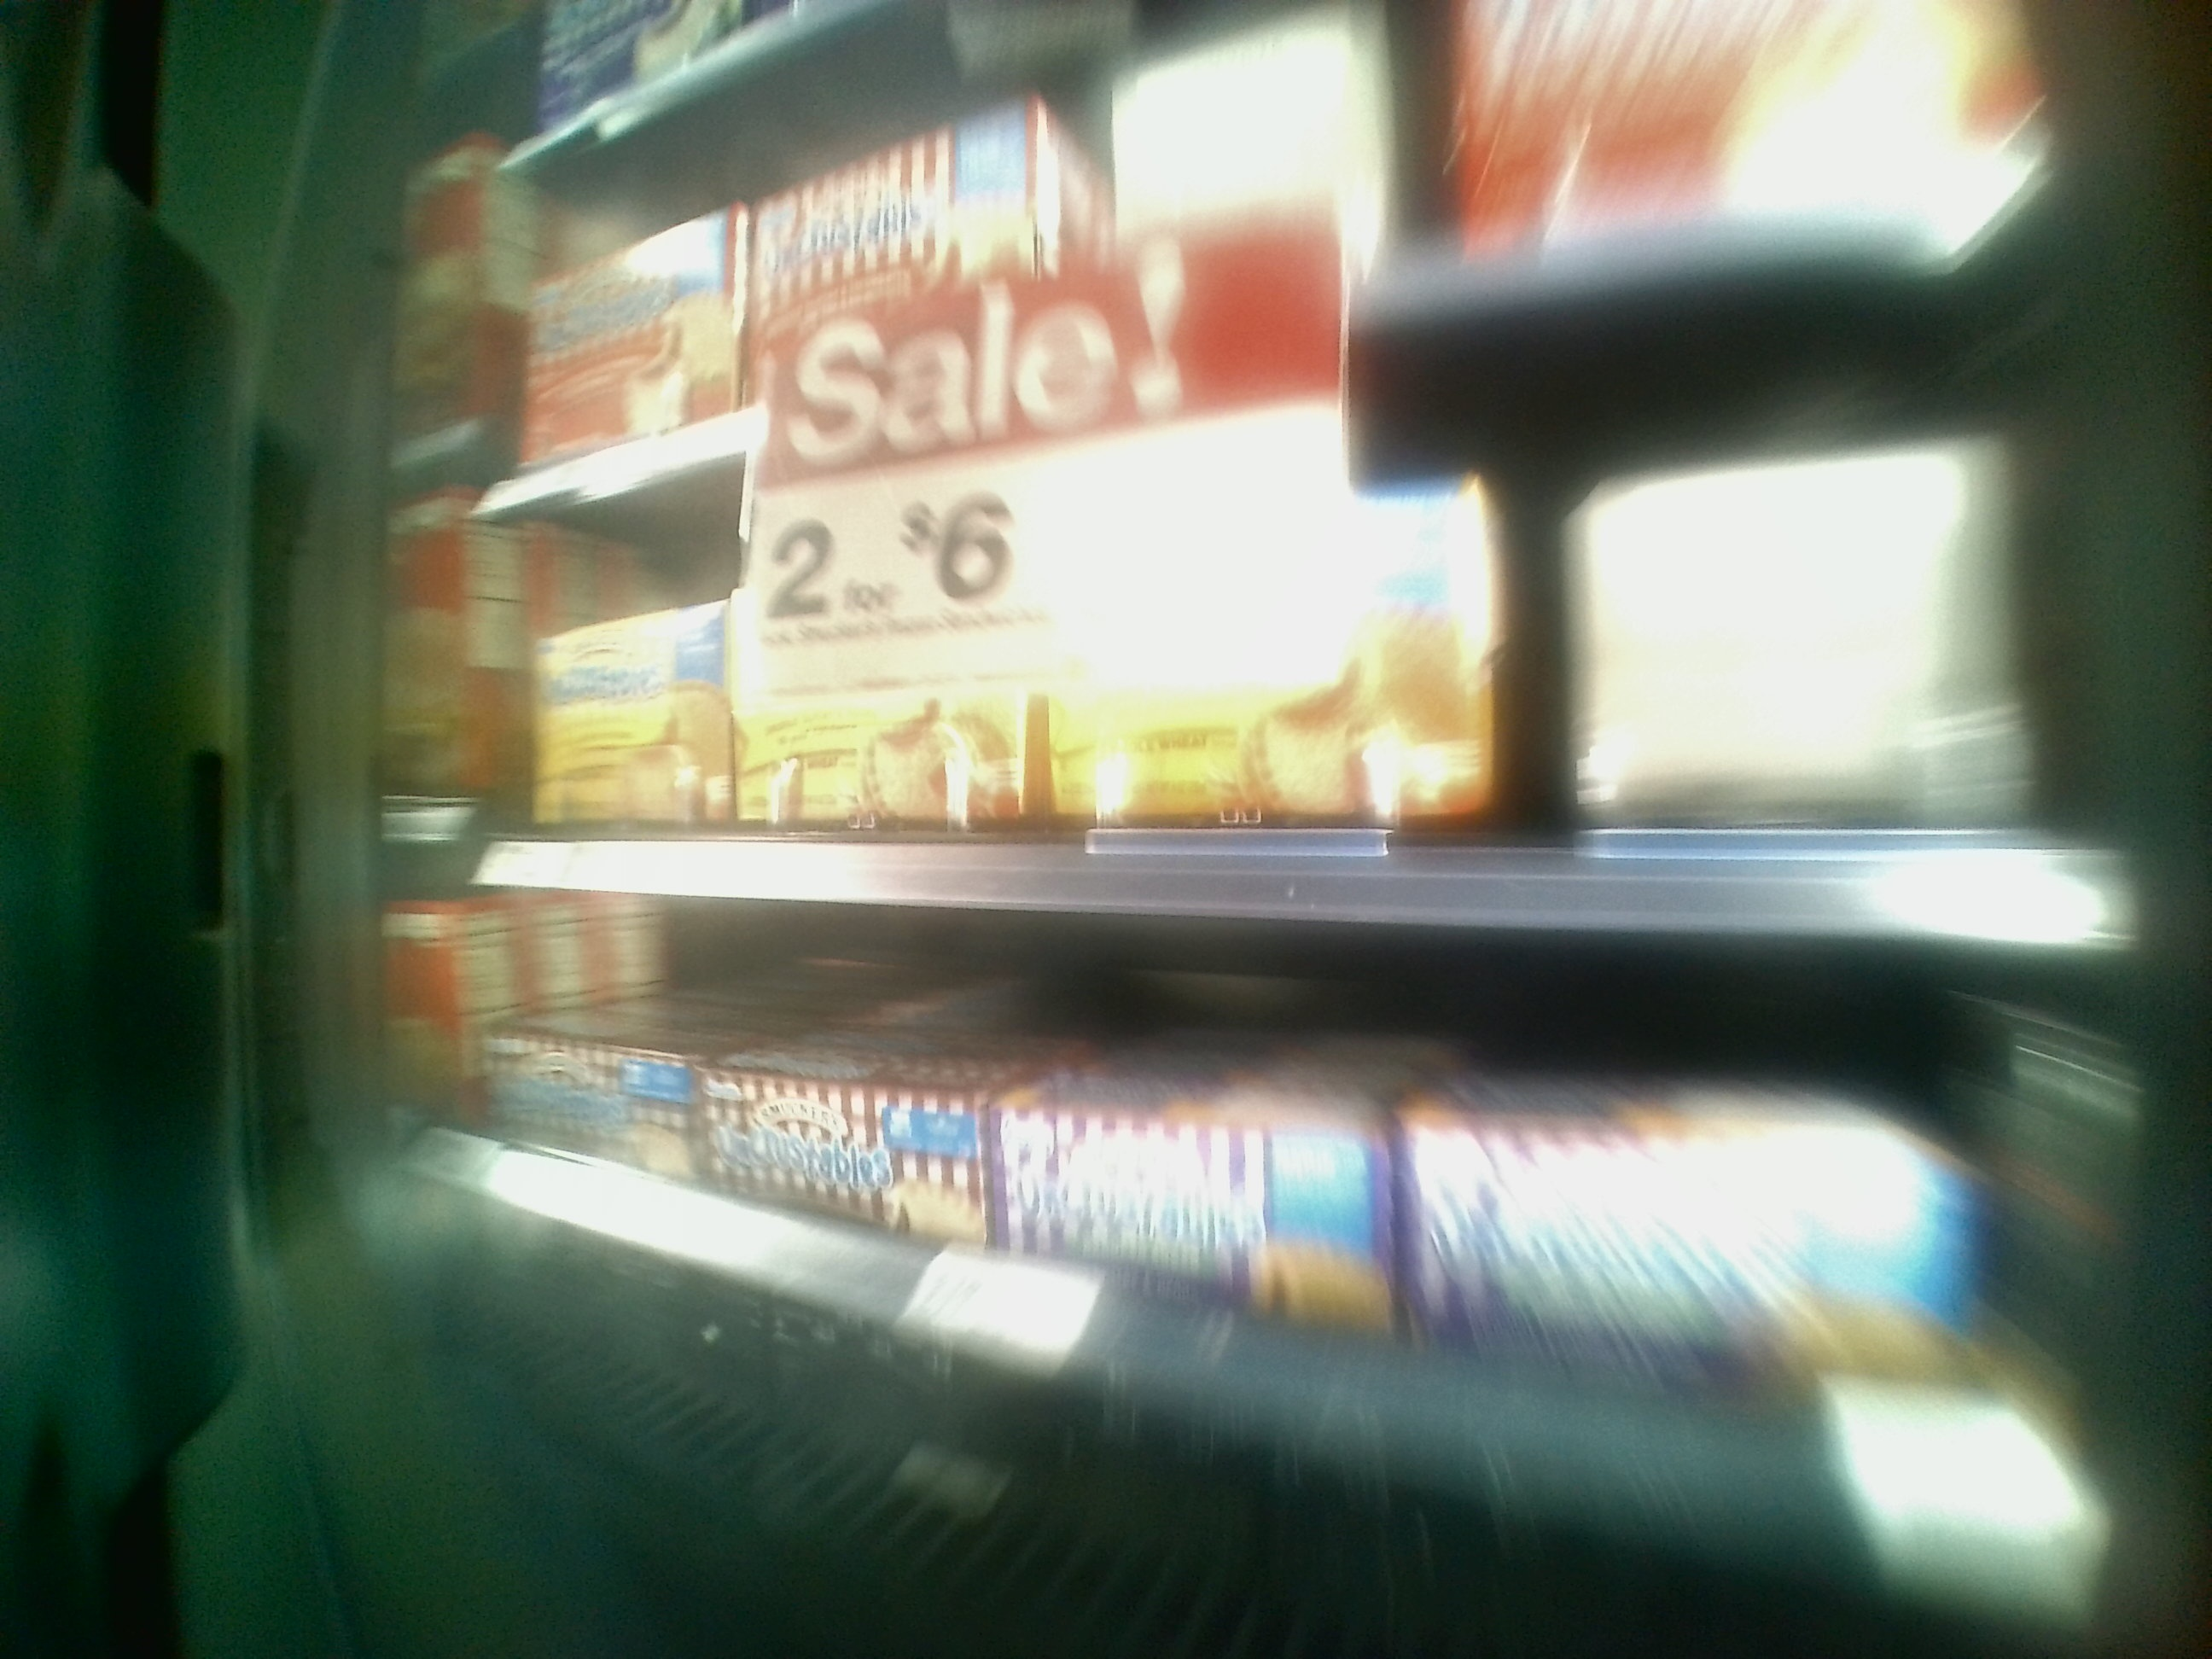shelf: (472, 849, 2081, 1485), (493, 467, 2076, 901)
